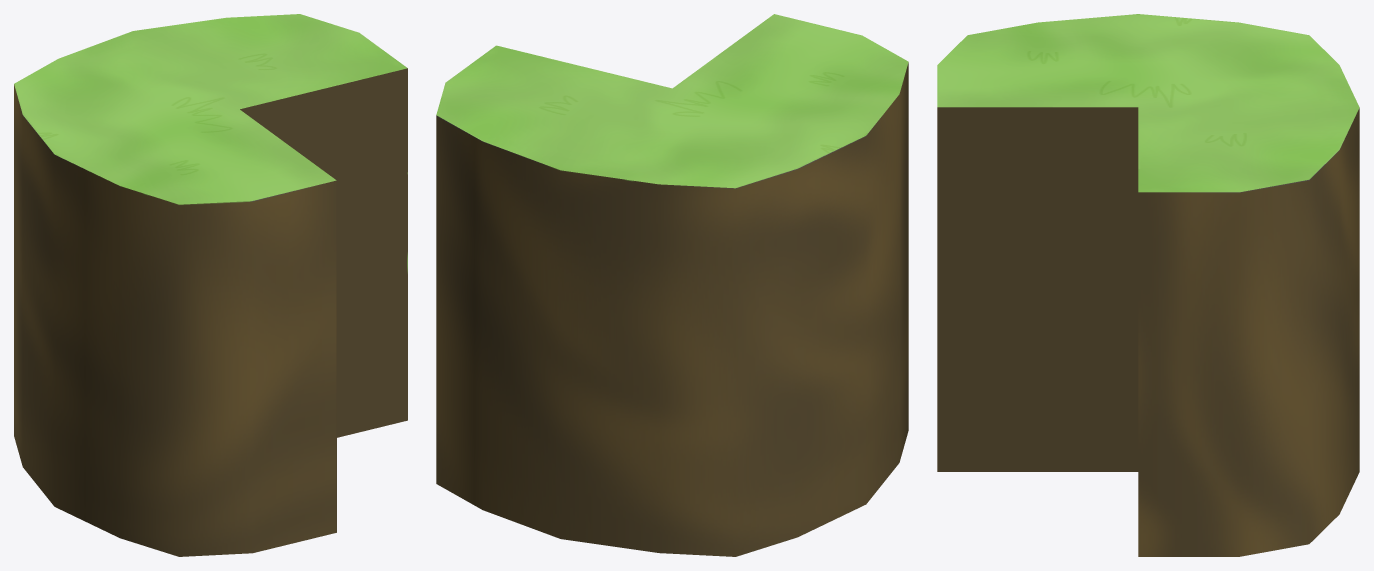
The model's file is WaterWallOuterCorners.fbx.
3 views of the same model, side by side, from view 1: azimuth 30°, elevation 25°; view 2: azimuth 150°, elevation 25°; view 3: azimuth 270°, elevation 25° (orthographic). The views are drawn at different scales.
Visible parts, largest first — view 1: OuterCorner; view 2: OuterCorner; view 3: OuterCorner.
Part boxes in pixels (x1,y1,x2,y2): OuterCorner: [14, 14, 407, 556]; OuterCorner: [436, 14, 908, 556]; OuterCorner: [937, 14, 1359, 556].
Size of the model in its own units: 210 by 200 by 210.
Materials: 1 (1 with a texture image).
